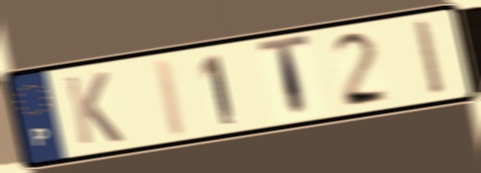1: (198, 52, 237, 127)
2: (326, 30, 392, 111)
I: (151, 55, 192, 141), (411, 16, 450, 99)
K: (61, 69, 127, 148)
T: (254, 31, 314, 122)
